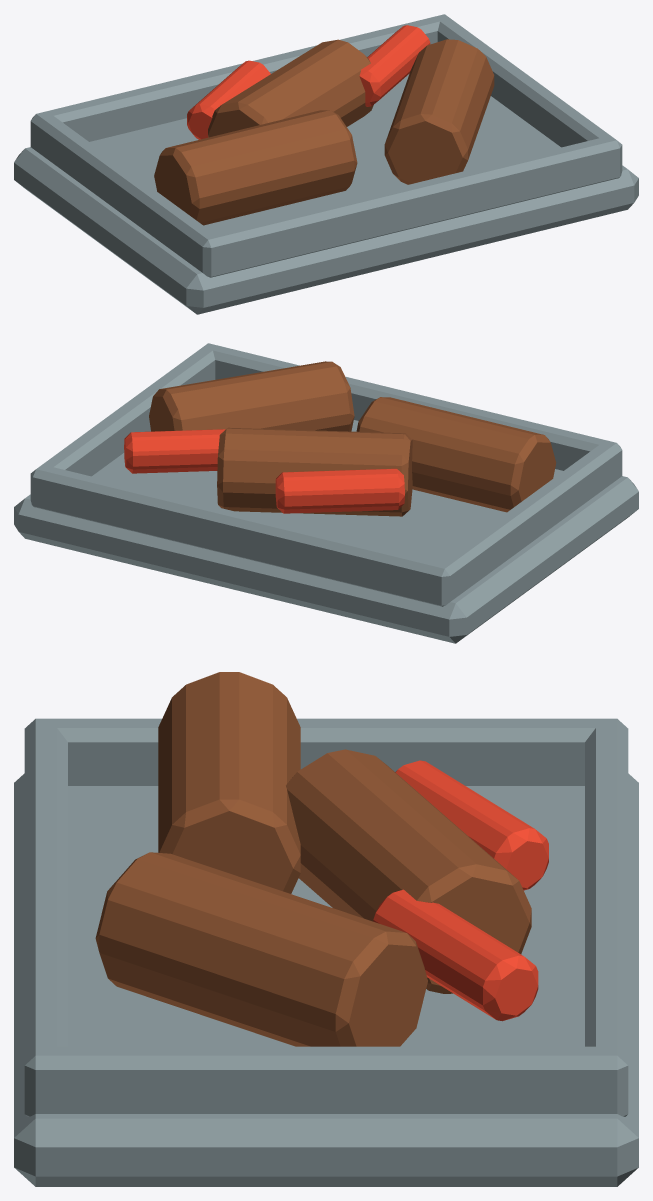
The model's file is smoked_chili_beef.glb.
The picture shows the model from 3 angles, top to bottom: view 1: azimuth 30°, elevation 25°; view 2: azimuth 150°, elevation 25°; view 3: azimuth 270°, elevation 25°; orthographic projection. The views are drawn at different scales.
Visible parts, largest first — view 1: FTF_Dish_SmokedChiliBeef_StaticMesh; view 2: FTF_Dish_SmokedChiliBeef_StaticMesh; view 3: FTF_Dish_SmokedChiliBeef_StaticMesh.
Part boxes in pixels (x1,y1,x2,y2): FTF_Dish_SmokedChiliBeef_StaticMesh: [14, 14, 638, 314]; FTF_Dish_SmokedChiliBeef_StaticMesh: [14, 343, 638, 643]; FTF_Dish_SmokedChiliBeef_StaticMesh: [14, 672, 638, 1186].
Bounding box in the file's own units: 0.82 × 0.1962 × 0.58.
